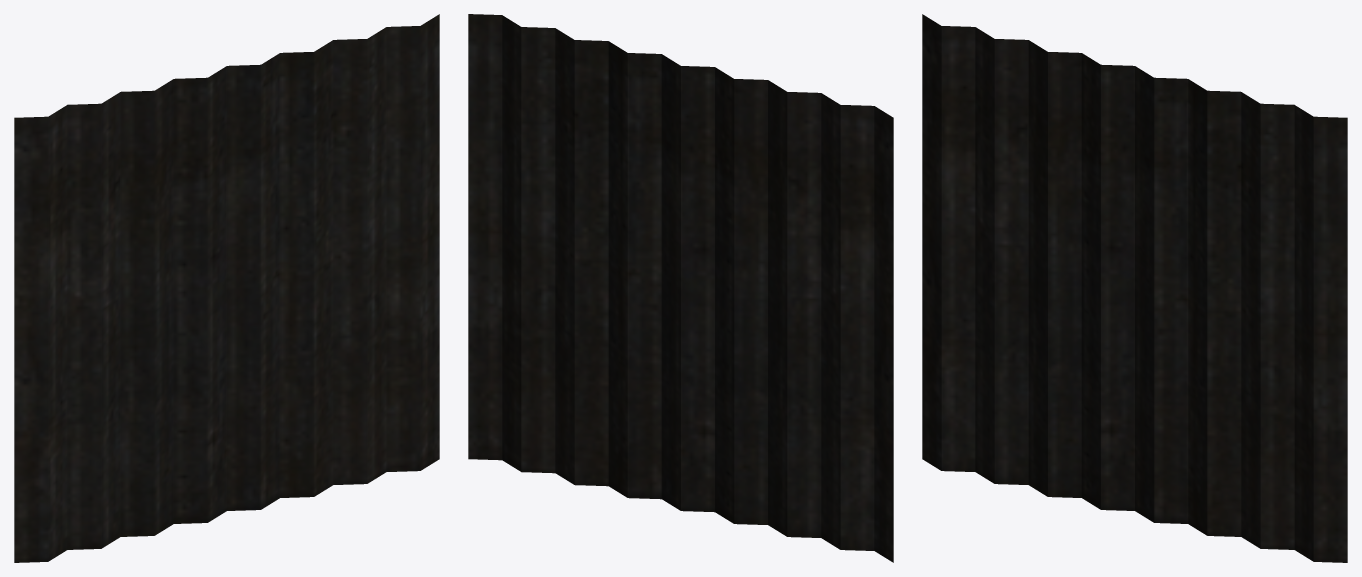
File: wall_5.obj
3 renders of one model, left to right at view 1: azimuth 30°, elevation 25°; view 2: azimuth 150°, elevation 25°; view 3: azimuth 330°, elevation 25°, orthographic.
Parts seen in each view (by area): view 1: wall_5; view 2: wall_5; view 3: wall_5.
Part boxes in pixels (<box>): wall_5: <box>14,14,439,562</box>; wall_5: <box>468,14,893,562</box>; wall_5: <box>922,14,1347,562</box>.
Bounding box in the file's own units: 2 × 2 × 0.06.
